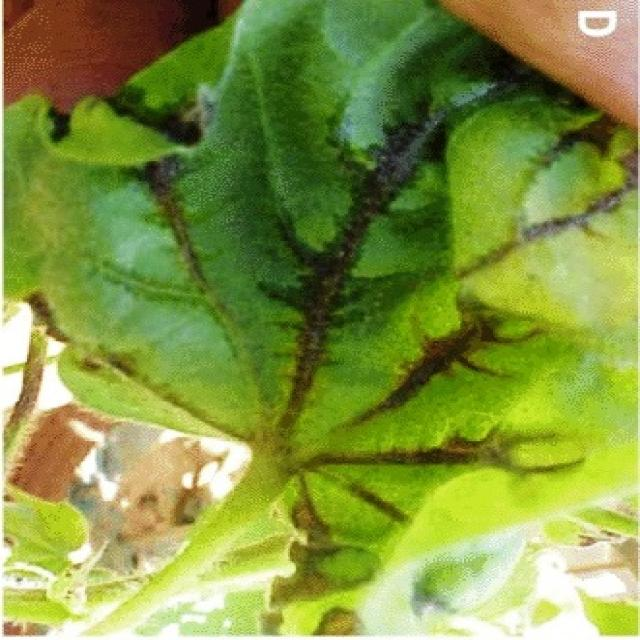Bacterial Blight: (150, 70, 503, 472)
